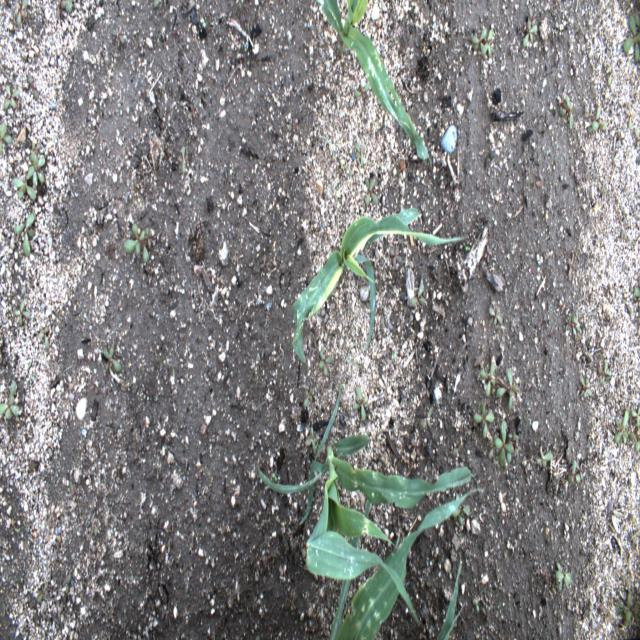crop: (259, 435, 471, 623), (290, 206, 472, 366), (330, 491, 479, 635), (319, 0, 432, 165), (435, 538, 465, 638)
weed: (8, 138, 51, 202), (489, 413, 521, 468), (608, 571, 638, 624), (542, 554, 573, 603), (120, 220, 154, 264), (12, 208, 40, 260), (612, 400, 638, 452), (470, 393, 500, 438), (471, 22, 499, 66), (519, 3, 543, 52), (495, 364, 518, 412), (0, 379, 23, 426), (474, 360, 500, 400), (98, 334, 123, 375), (408, 276, 432, 317), (314, 344, 336, 385), (349, 382, 371, 422), (622, 9, 638, 63), (341, 340, 365, 374), (349, 134, 369, 174), (557, 89, 578, 127), (622, 100, 638, 149), (584, 103, 608, 135), (1, 81, 22, 117), (2, 1, 30, 28), (300, 420, 322, 454), (13, 296, 33, 332), (255, 242, 274, 279), (488, 301, 507, 337), (560, 310, 582, 341), (363, 174, 382, 209), (564, 457, 584, 490), (53, 0, 75, 30), (0, 114, 13, 163), (22, 69, 40, 103), (32, 574, 49, 608), (533, 444, 555, 469), (619, 288, 636, 320), (36, 321, 52, 353), (352, 80, 367, 114), (420, 400, 434, 436), (7, 513, 25, 541), (452, 502, 472, 527), (406, 434, 422, 464), (111, 24, 127, 54), (186, 89, 200, 123), (471, 590, 489, 616), (387, 245, 404, 272), (579, 373, 594, 403), (417, 375, 434, 401), (86, 511, 103, 537), (598, 357, 613, 386), (604, 62, 621, 87), (600, 305, 617, 330), (304, 383, 318, 409), (168, 361, 185, 382), (239, 36, 256, 55), (613, 127, 627, 150), (60, 575, 74, 598), (438, 286, 454, 306), (1, 596, 17, 616), (66, 472, 78, 498), (481, 241, 495, 262), (180, 138, 187, 180), (170, 22, 181, 41), (201, 9, 207, 41), (630, 281, 638, 302)
